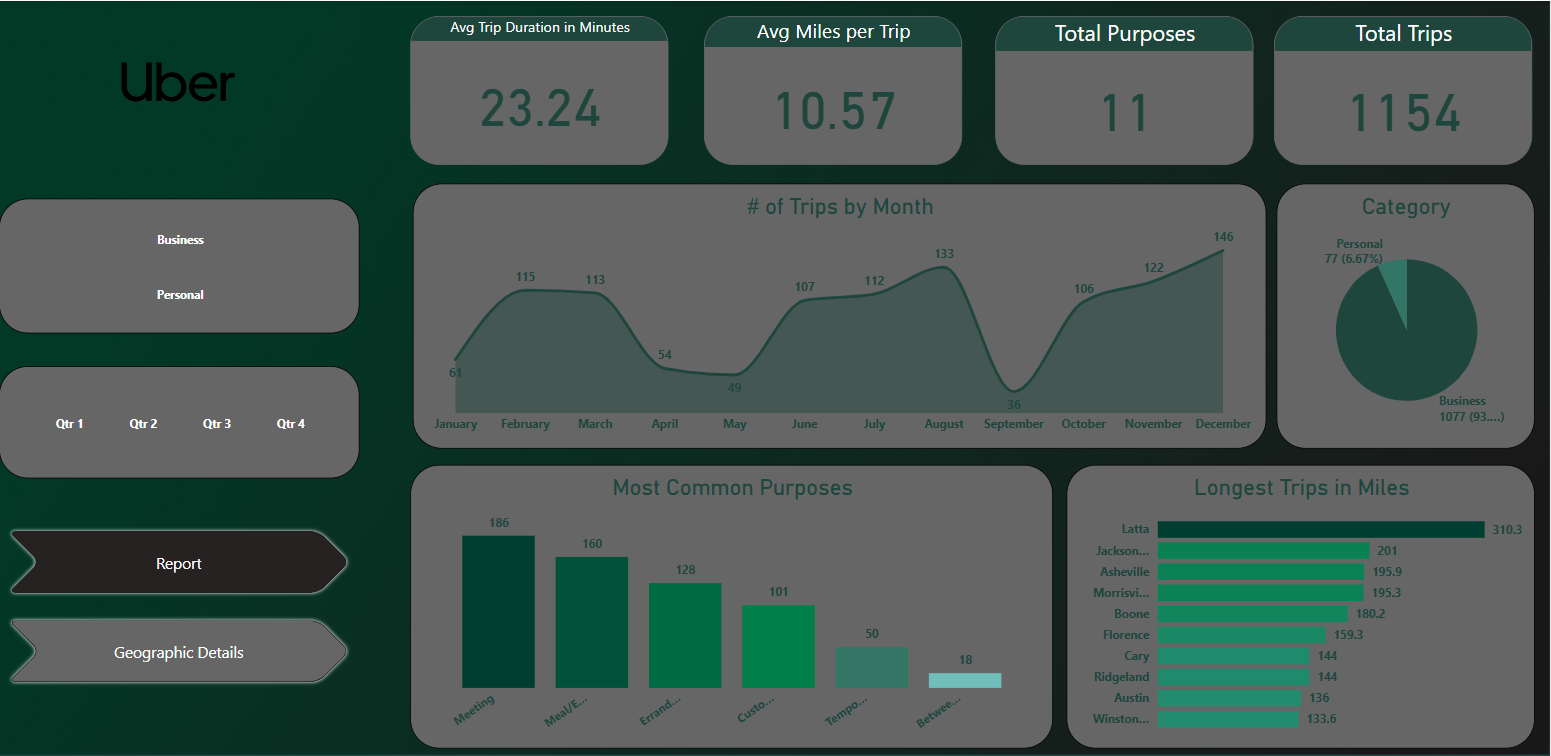

The dashboard page shown, as its layout file describes it:
{"tool":"powerbi","page":{"name":"Report","canvas":[1600,780],"ordinal":0},"visuals":[{"type":"image","box":[0,0,371.9,168.1],"z":0},{"type":"card","title":"Total Trips","fields":{"Values":["CountNonNull(UberDataset.CATEGORY)"]},"box":[1315,14.9,266.3,153.2],"z":1000},{"type":"card","title":"Total Purposes","fields":{"Values":["Count(UberDataset.PURPOSE)"]},"box":[1027.9,14.9,266.3,153.2],"z":2000},{"type":"card","title":"Avg Miles per Trip","fields":{"Values":["Avg(UberDataset.MILES)"]},"box":[727.4,14.9,266.3,153.2],"z":3000},{"type":"card","title":"Avg Trip Duration in Minutes","fields":{"Values":["Avg(UberDataset.Trip_Duration)"]},"box":[424,14.9,266.3,153.2],"z":4000},{"type":"pieChart","title":"Category ","fields":{"Y":["CountNonNull(UberDataset.CATEGORY)"],"Category":["UberDataset.CATEGORY"]},"box":[1317.4,187.7,266.3,273.7],"z":5000},{"type":"lineChart","title":"# of Trips by Month","fields":{"Category":["UberDataset.START_DATE.Variation.Date Hierarchy.Month"],"Y":["CountNonNull(UberDataset.CATEGORY)"]},"box":[426.3,187.7,880.7,273.7],"z":6000},{"type":"columnChart","title":"Most Common Purposes","fields":{"Category":["UberDataset.PURPOSE"],"Y":["CountNonNull(UberDataset.PURPOSE)"]},"box":[424,479,663.5,293.1],"z":7000},{"type":"barChart","title":"Longest Trips in Miles","fields":{"Category":["UberDataset.START"],"Y":["Max(UberDataset.MILES)"]},"box":[1100.8,479,483.5,293.1],"z":8000},{"type":"slicer","fields":{"Values":["UberDataset.CATEGORY"]},"box":[0,203.3,371.8,139.4],"z":9000},{"type":"slicer","fields":{"Values":["UberDataset.START_DATE.Variation.Date Hierarchy.Quarter"]},"box":[0,376.4,371.9,116],"z":10000},{"type":"pageNavigator","box":[0,537.4,371.8,175.7],"z":11000}]}

Visuals, with their boxes in screenshot pixels (x1, y1, x2, y2), scaled from the page's 1600x780 canvas onto the 1551x756 screenshot:
image: box=[0, 0, 361, 163]
"Total Trips" card: box=[1275, 14, 1533, 163]
"Total Purposes" card: box=[996, 14, 1255, 163]
"Avg Miles per Trip" card: box=[705, 14, 963, 163]
"Avg Trip Duration in Minutes" card: box=[411, 14, 669, 163]
"Category " pieChart: box=[1277, 182, 1535, 447]
"# of Trips by Month" lineChart: box=[413, 182, 1267, 447]
"Most Common Purposes" columnChart: box=[411, 464, 1054, 748]
"Longest Trips in Miles" barChart: box=[1067, 464, 1536, 748]
slicer - UberDataset.CATEGORY: box=[0, 197, 360, 332]
slicer - UberDataset.START_DATE.Variation.Date Hierarchy.Quarter: box=[0, 365, 361, 477]
pageNavigator: box=[0, 521, 360, 691]
